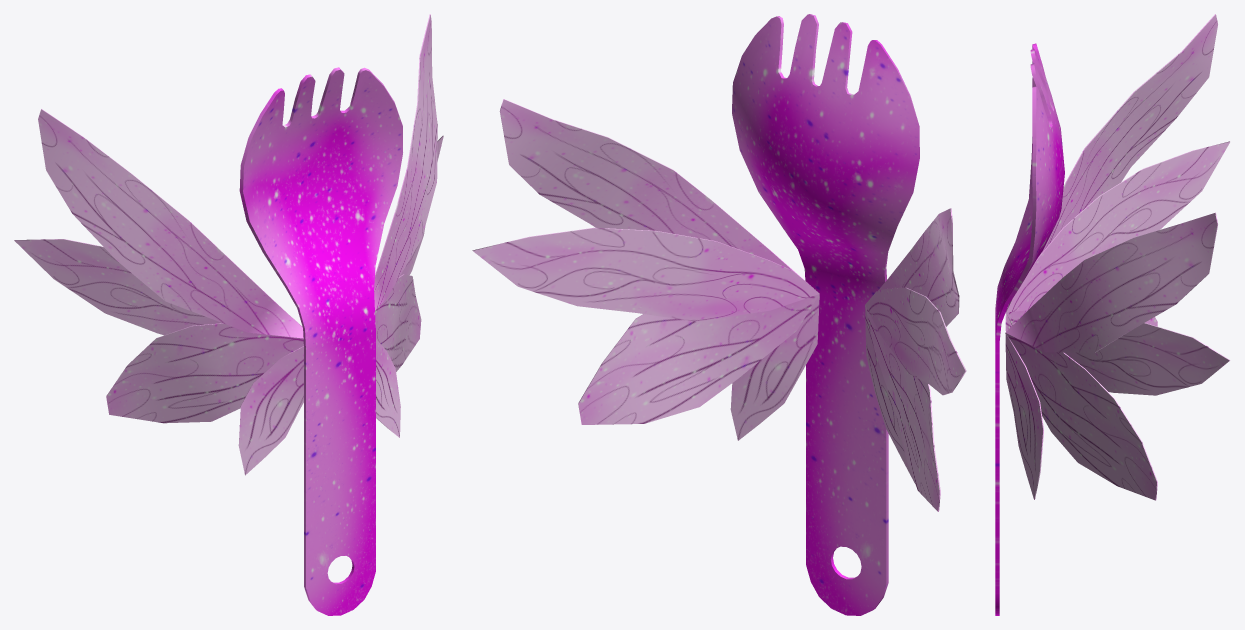
File: sporkFairy.glb
3 views of the same model, side by side, from view 1: azimuth 30°, elevation 25°; view 2: azimuth 150°, elevation 25°; view 3: azimuth 270°, elevation 25° (orthographic). The views are drawn at different scales.
Visible parts, largest first — view 1: sporkFairy; view 2: sporkFairy; view 3: sporkFairy.
Boxes of the visible parts, <box> form: sporkFairy: <box>14,14,443,615</box>; sporkFairy: <box>472,14,966,615</box>; sporkFairy: <box>995,14,1230,615</box>.
Bounding box in the file's own units: 0.1271 × 0.15 × 0.0576.
Materials: 1 (1 with a texture image).
